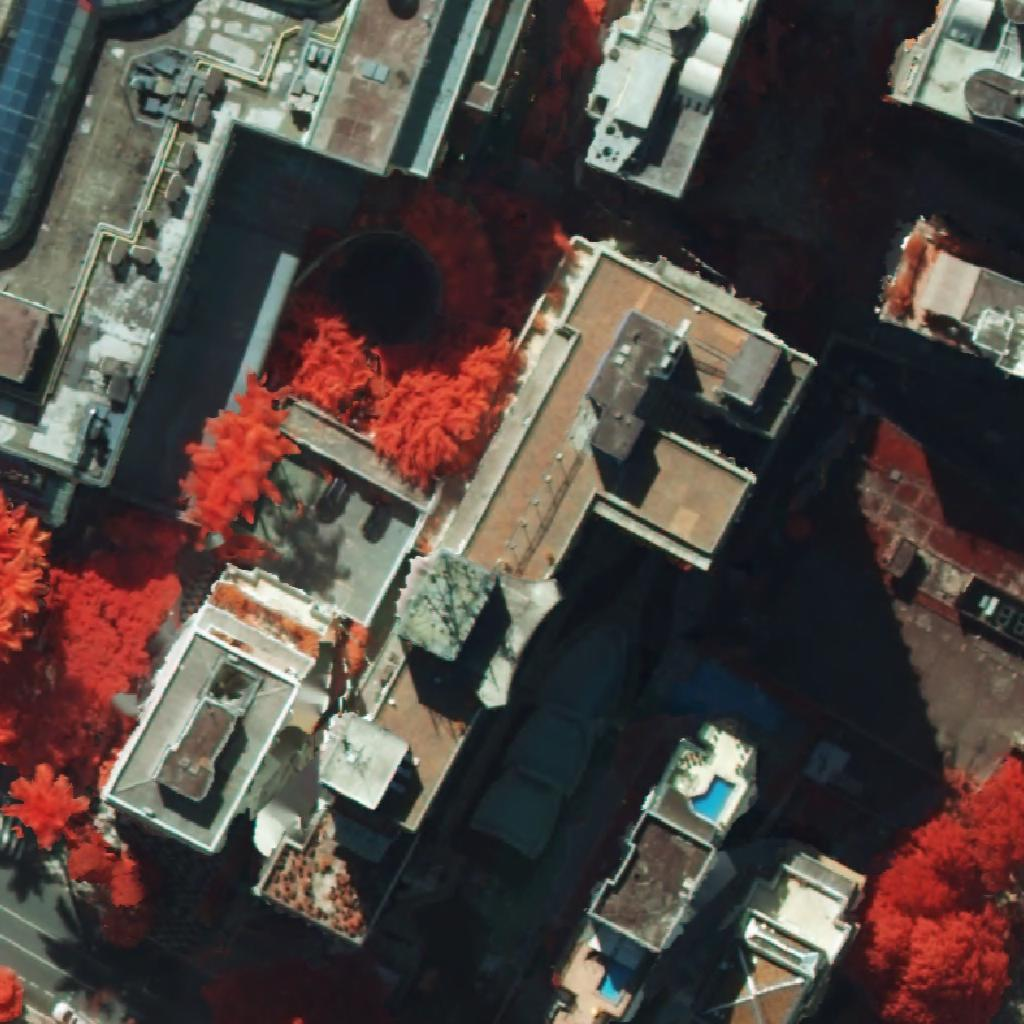pool: (693, 776, 735, 821), (597, 961, 632, 1001)
